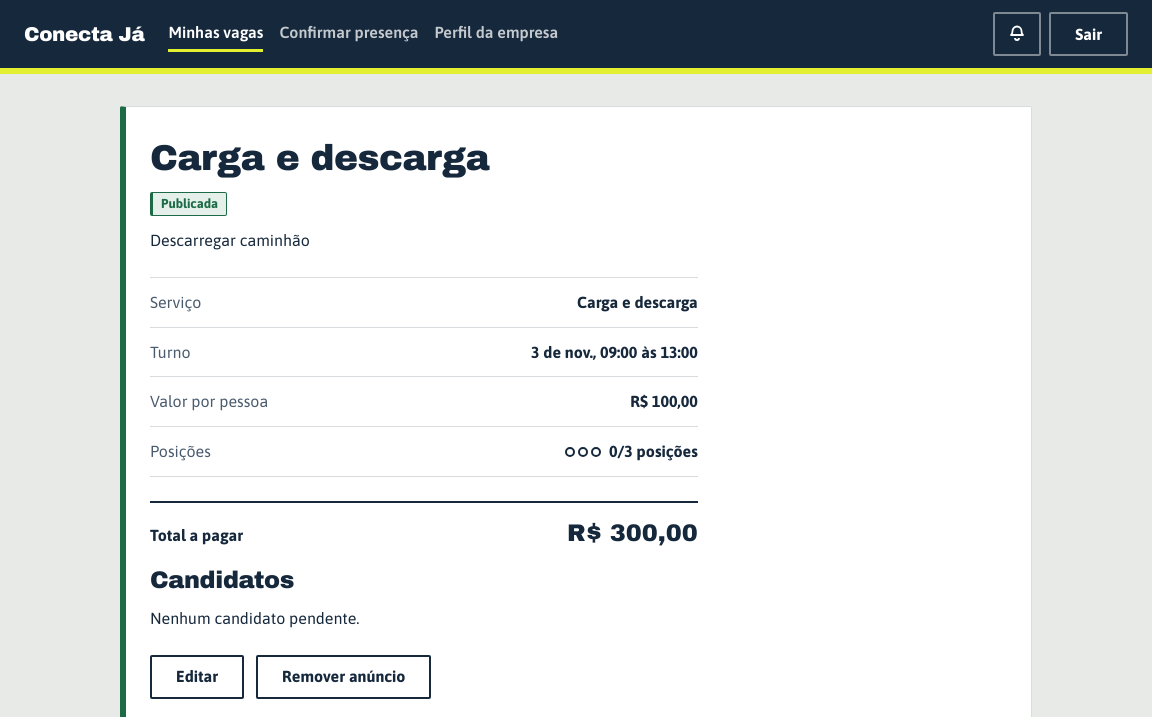
Test case: Vagas da empresa › edita a vaga publicada com valor e pessoas somente leitura
The width and height of the screenshot is (1152, 717).
Click the button "Editar" at (197, 677), box [150,655,244,699]
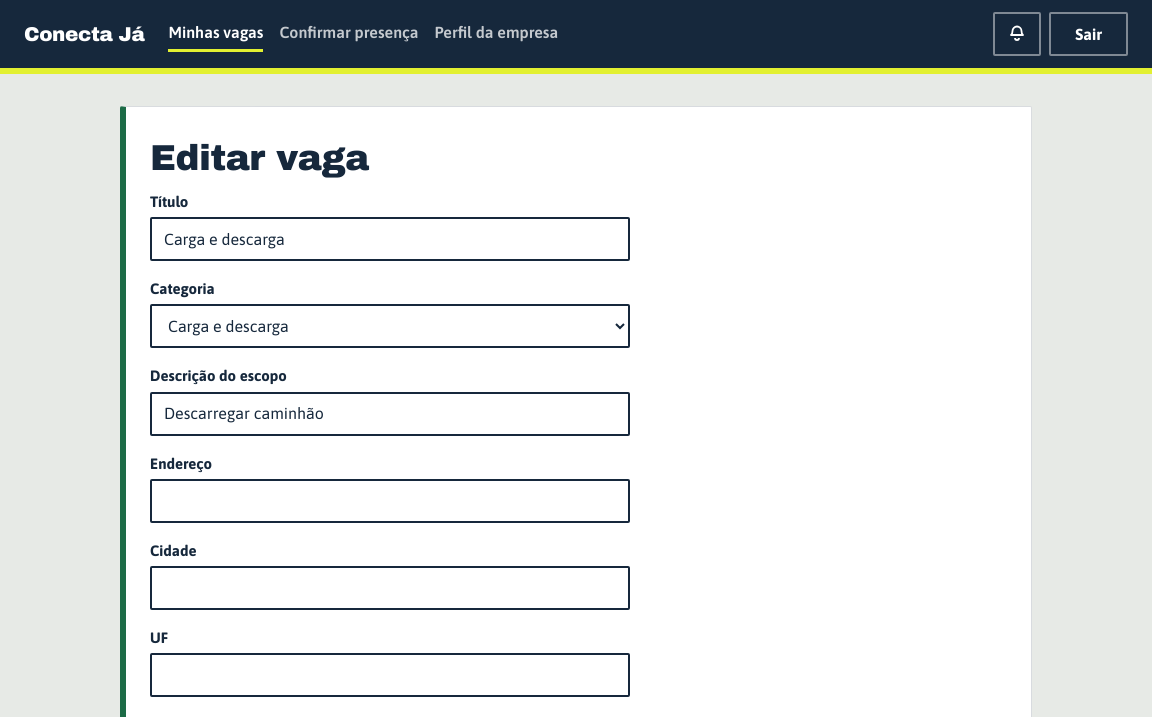
Replace the text in the field labelled "Título" with "Novo título" at (390, 239), box [150,217,630,261]
(page scrolled)
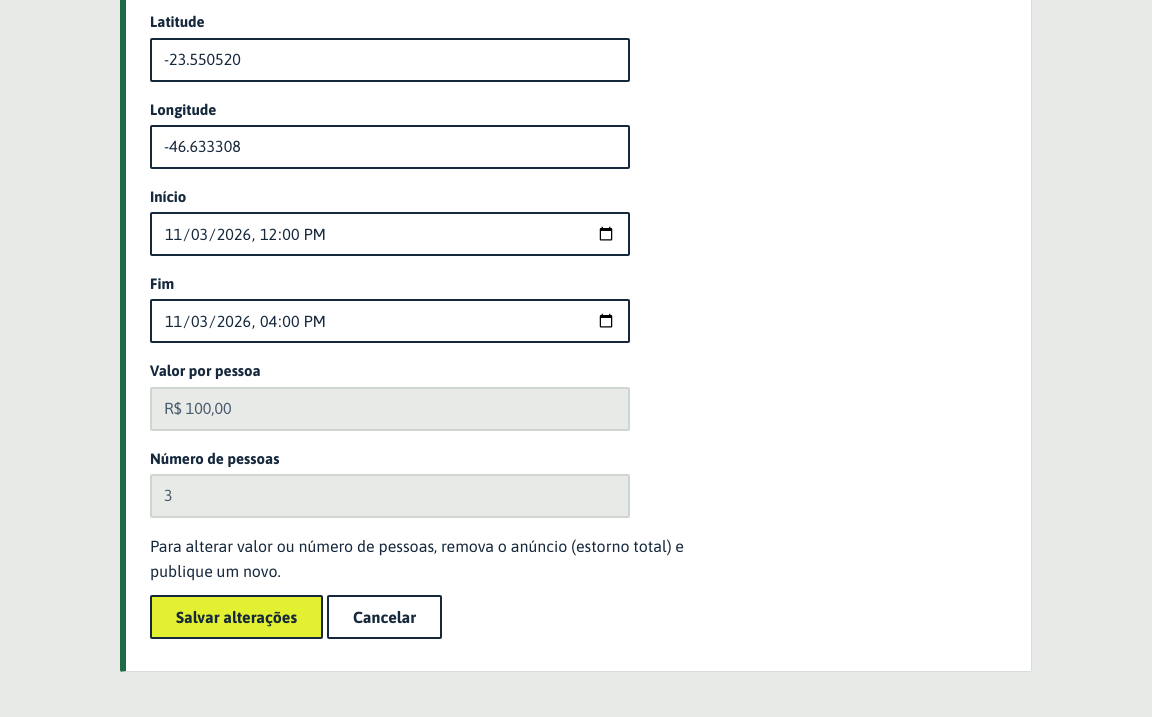
Click the button "Salvar alterações" at (237, 618), box [150,596,323,640]
(page scrolled)
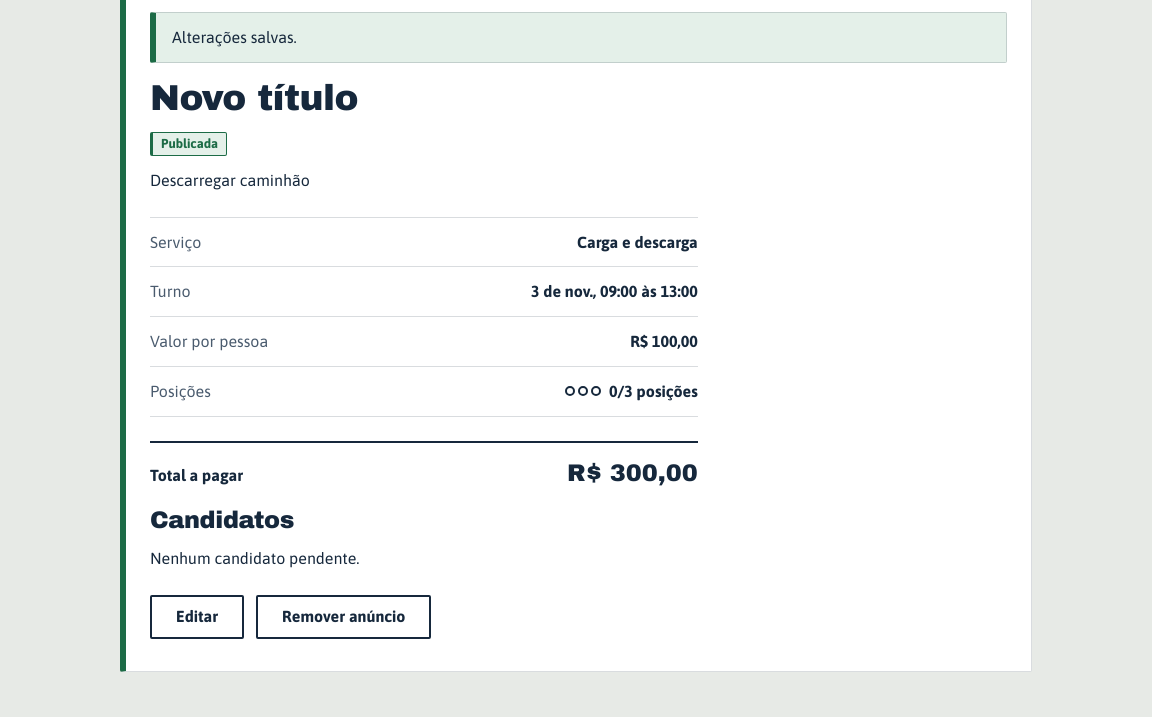
Now the text "Alterações salvas." is shown, box [150,12,1007,63]
Now the heading "Novo título" is shown, box [150,78,358,118]
